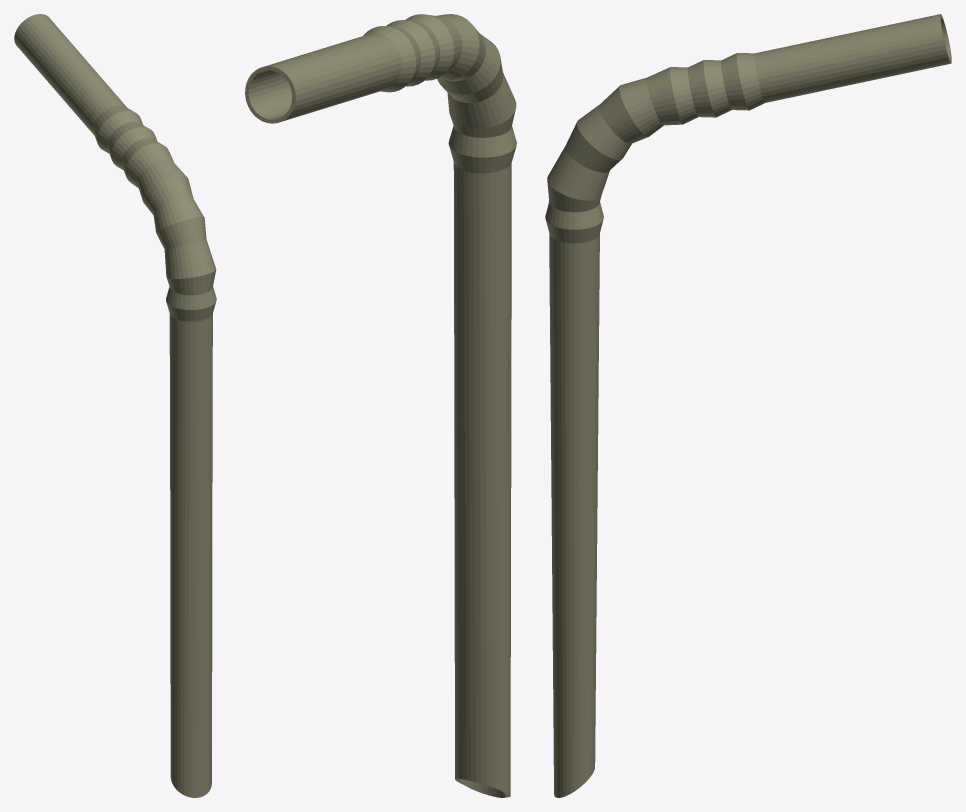
The model's file is simple straw.fbx.
3 renders of one model, left to right at view 1: azimuth 30°, elevation 25°; view 2: azimuth 150°, elevation 25°; view 3: azimuth 270°, elevation 25°, orthographic. The views are drawn at different scales.
Parts seen in each view (by area): view 1: Cylinder; view 2: Cylinder; view 3: Cylinder.
Boxes of the visible parts, x1=… form: Cylinder: x1=14, y1=14, x2=216, y2=797; Cylinder: x1=245, y1=14, x2=516, y2=797; Cylinder: x1=545, y1=14, x2=951, y2=797.
Bounding box in the file's own units: 174 × 368 × 25.76.
